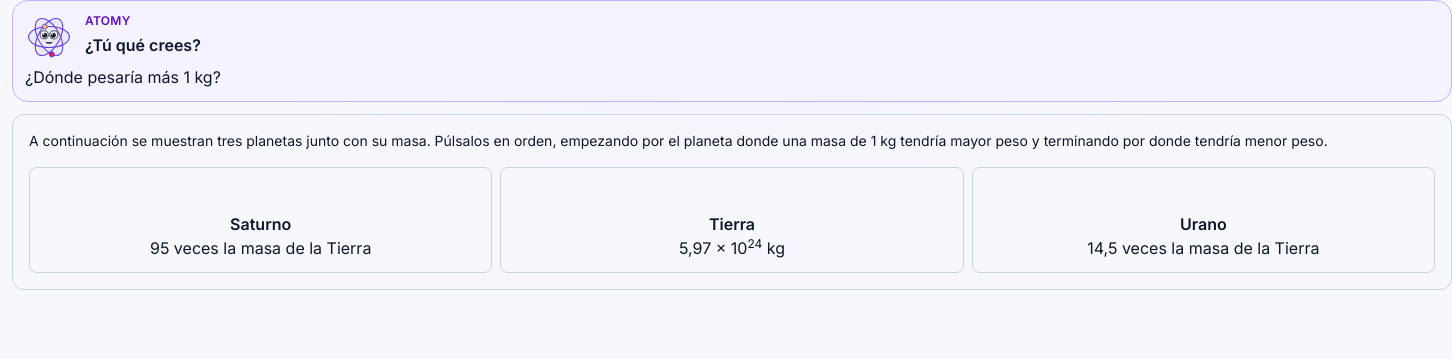
Test: PlanetRanking › lets the reader check only once every planet is ranked
Click the button "Saturno 95 veces la masa de la Tierra": [261, 220] box [29, 167, 492, 273]
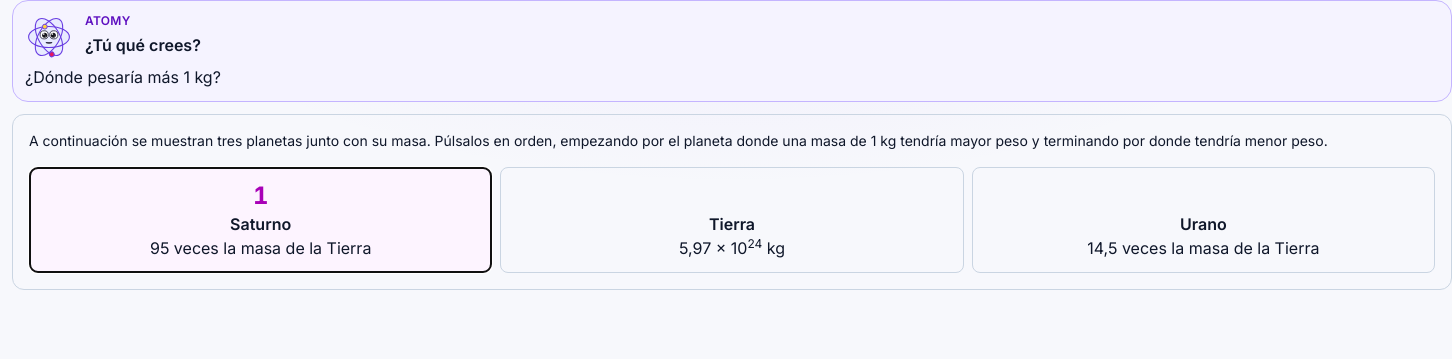
Click the button "Tierra 5,97 × 1024 kg": [732, 220] box [500, 167, 964, 273]
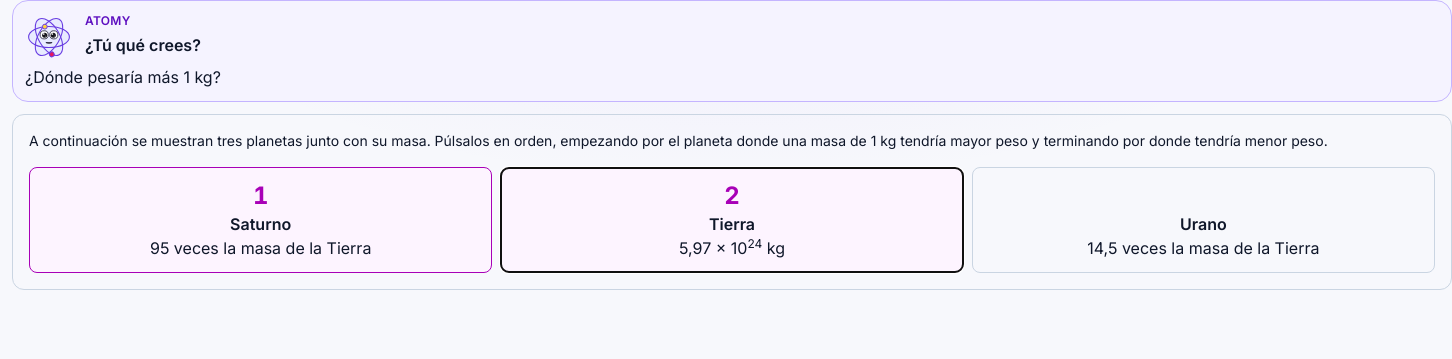
Expected: the button "Comprobar" is not shown
Click the button "Urano 14,5 veces la masa de la Tierra": [1203, 220] box [972, 167, 1435, 273]
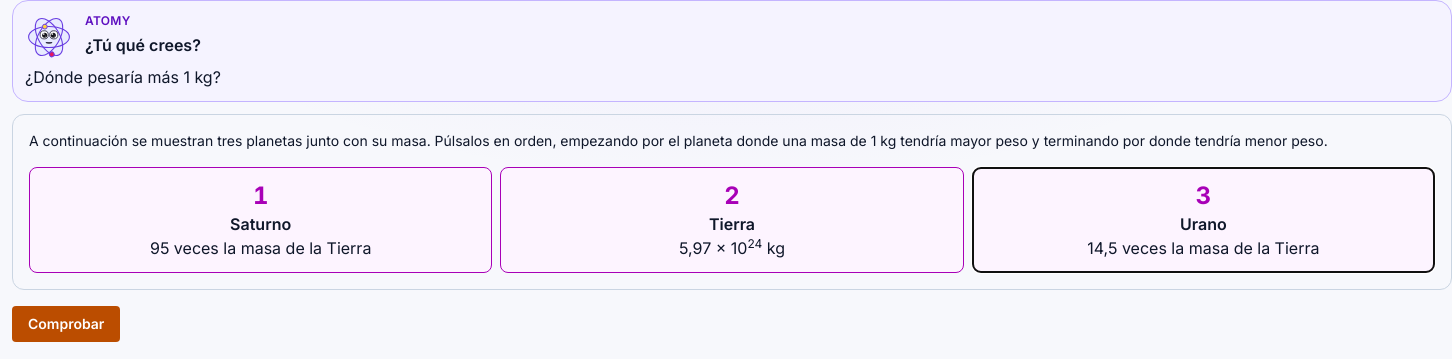
Expected: the button "Comprobar" is enabled, [12, 306, 120, 342]
